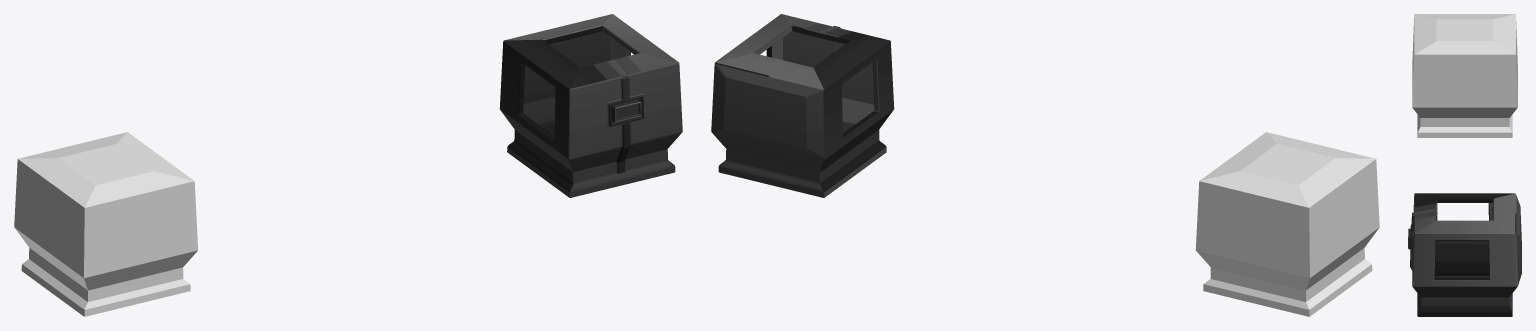
File: vest_mass.fbx
The picture shows the model from 3 angles, left to right: view 1: azimuth 30°, elevation 25°; view 2: azimuth 150°, elevation 25°; view 3: azimuth 270°, elevation 25°; orthographic projection. The views are drawn at different scales.
Parts seen in each view (by area): view 1: Cube.003, Cube.002; view 2: Cube.003, Cube.002; view 3: Cube.003, Cube.002.
Boxes of the visible parts, left/top/right/bottom form: Cube.003: left=14, top=132, right=197, bottom=316; Cube.002: left=499, top=14, right=682, bottom=197; Cube.003: left=1195, top=132, right=1379, bottom=316; Cube.002: left=711, top=14, right=894, bottom=197; Cube.003: left=1412, top=14, right=1517, bottom=137; Cube.002: left=1408, top=193, right=1521, bottom=316.
Bounding box in the file's own units: 201 × 37.29 × 43.69.
